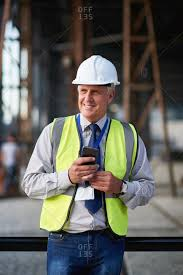Person_wearing_helmet: (71, 50, 121, 96)
